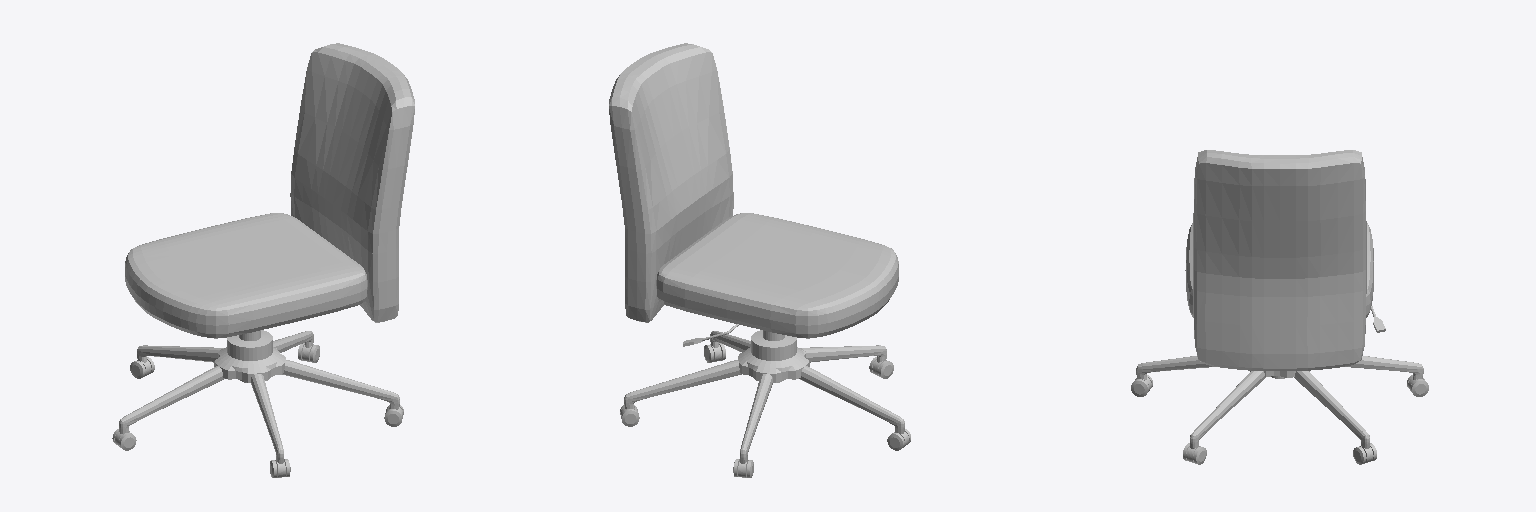
The model's file is Office Chair.obj.
The picture shows the model from 3 angles: view 1: azimuth 30°, elevation 25°; view 2: azimuth 150°, elevation 25°; view 3: azimuth 270°, elevation 25°; orthographic projection.
Visible parts, largest first — view 1: Cube.069_Cube.093, Chair_Cube.094, Cylinder.002_Cylinder.003; view 2: Cube.069_Cube.093, Chair_Cube.094, Cylinder.002_Cylinder.003; view 3: Cube.069_Cube.093, Cylinder.002_Cylinder.003, Chair_Cube.094.
Part boxes in pixels (left/top/right/bottom): Cube.069_Cube.093: left=290, top=43, right=414, bottom=322; Chair_Cube.094: left=125, top=213, right=367, bottom=338; Cylinder.002_Cylinder.003: left=112, top=330, right=403, bottom=477; Cube.069_Cube.093: left=609, top=43, right=733, bottom=322; Chair_Cube.094: left=656, top=213, right=898, bottom=338; Cylinder.002_Cylinder.003: left=620, top=330, right=910, bottom=477; Cube.069_Cube.093: left=1193, top=150, right=1366, bottom=370; Cylinder.002_Cylinder.003: left=1131, top=356, right=1428, bottom=464; Chair_Cube.094: left=1185, top=223, right=1373, bottom=317.
Bounding box in the file's own units: 2.54 × 2.78 × 2.35.